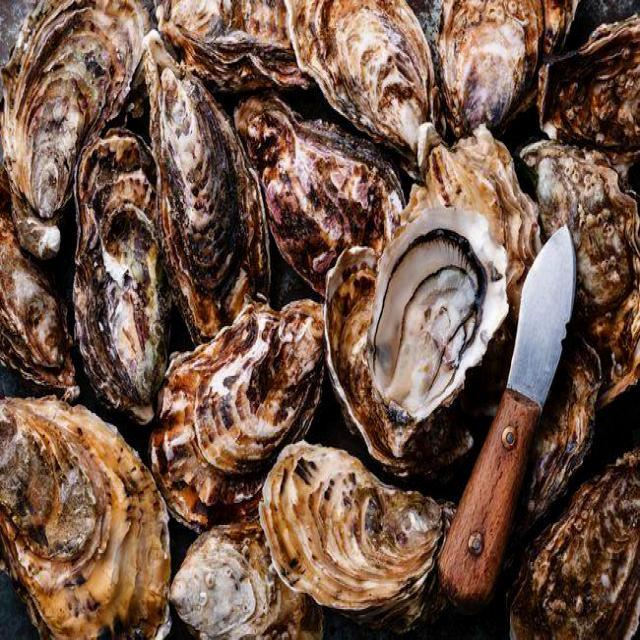Oyster-Closed: (0, 392, 168, 640), (138, 26, 272, 332), (148, 296, 328, 506), (230, 96, 406, 304), (0, 0, 156, 224), (261, 437, 447, 613), (74, 130, 178, 424), (536, 142, 640, 402), (322, 239, 430, 481), (510, 444, 640, 640), (282, 0, 433, 162), (433, 0, 582, 132), (170, 520, 308, 640), (538, 13, 640, 158), (0, 212, 76, 399), (156, 0, 309, 92)
Oyster-Open: (368, 194, 516, 433)
